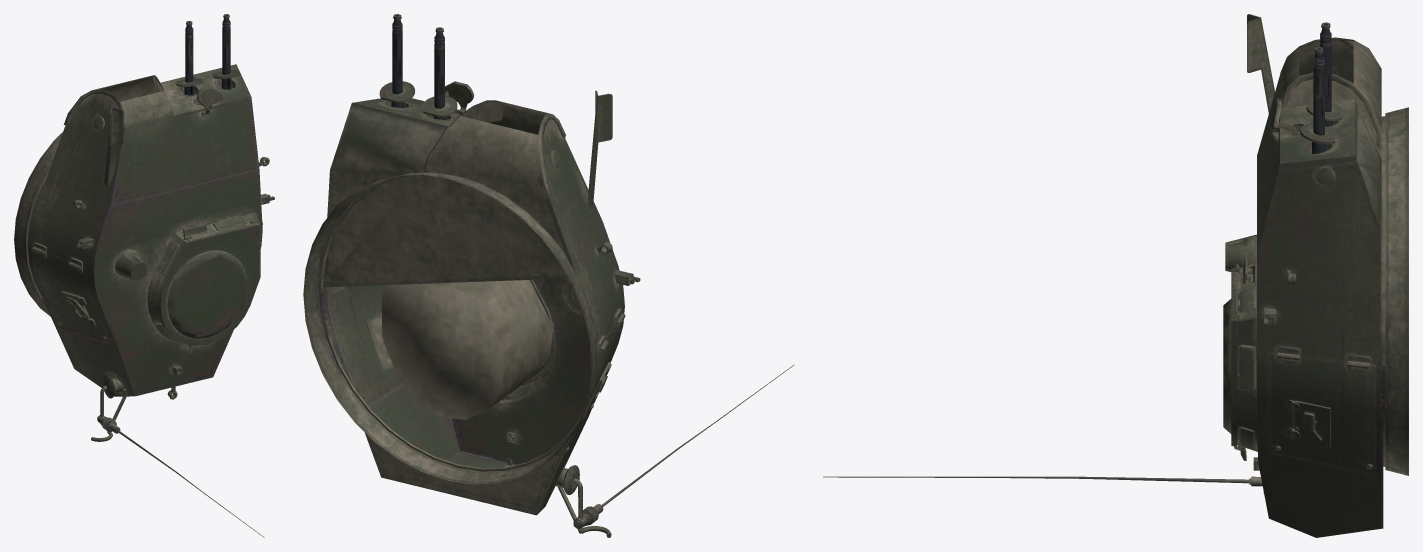
The model's file is Turret_02.glb.
3 views of the same model, side by side, from view 1: azimuth 30°, elevation 25°; view 2: azimuth 150°, elevation 25°; view 3: azimuth 270°, elevation 25° (orthographic). The views are drawn at different scales.
Parts seen in each view (by area): view 1: set_0_group_0; view 2: set_0_group_0; view 3: set_0_group_0.
Part boxes in pixels (x1,y1,x2,y2): set_0_group_0: (14, 14, 274, 537); set_0_group_0: (303, 14, 794, 537); set_0_group_0: (823, 14, 1408, 537).
Bounding box in the file's own units: 1.44 × 2.34 × 2.28.
1 material, 1 textured.
